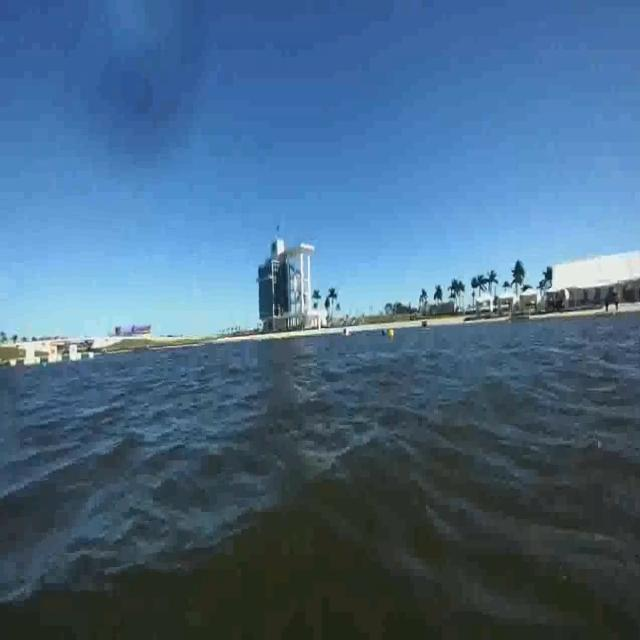yellow-buoy: (385, 329, 393, 341)
